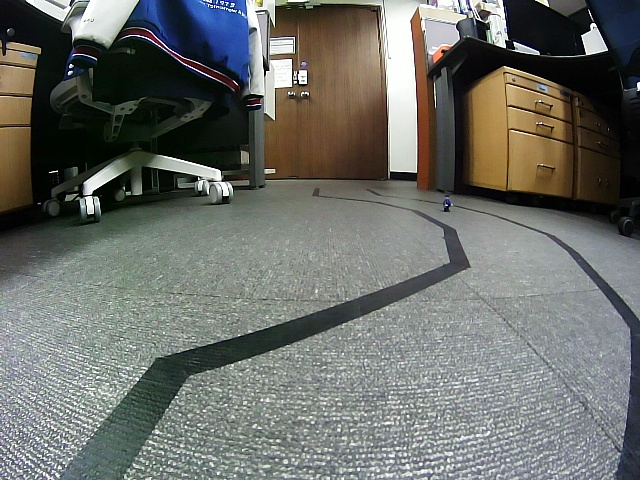person: (443, 195, 454, 212)
